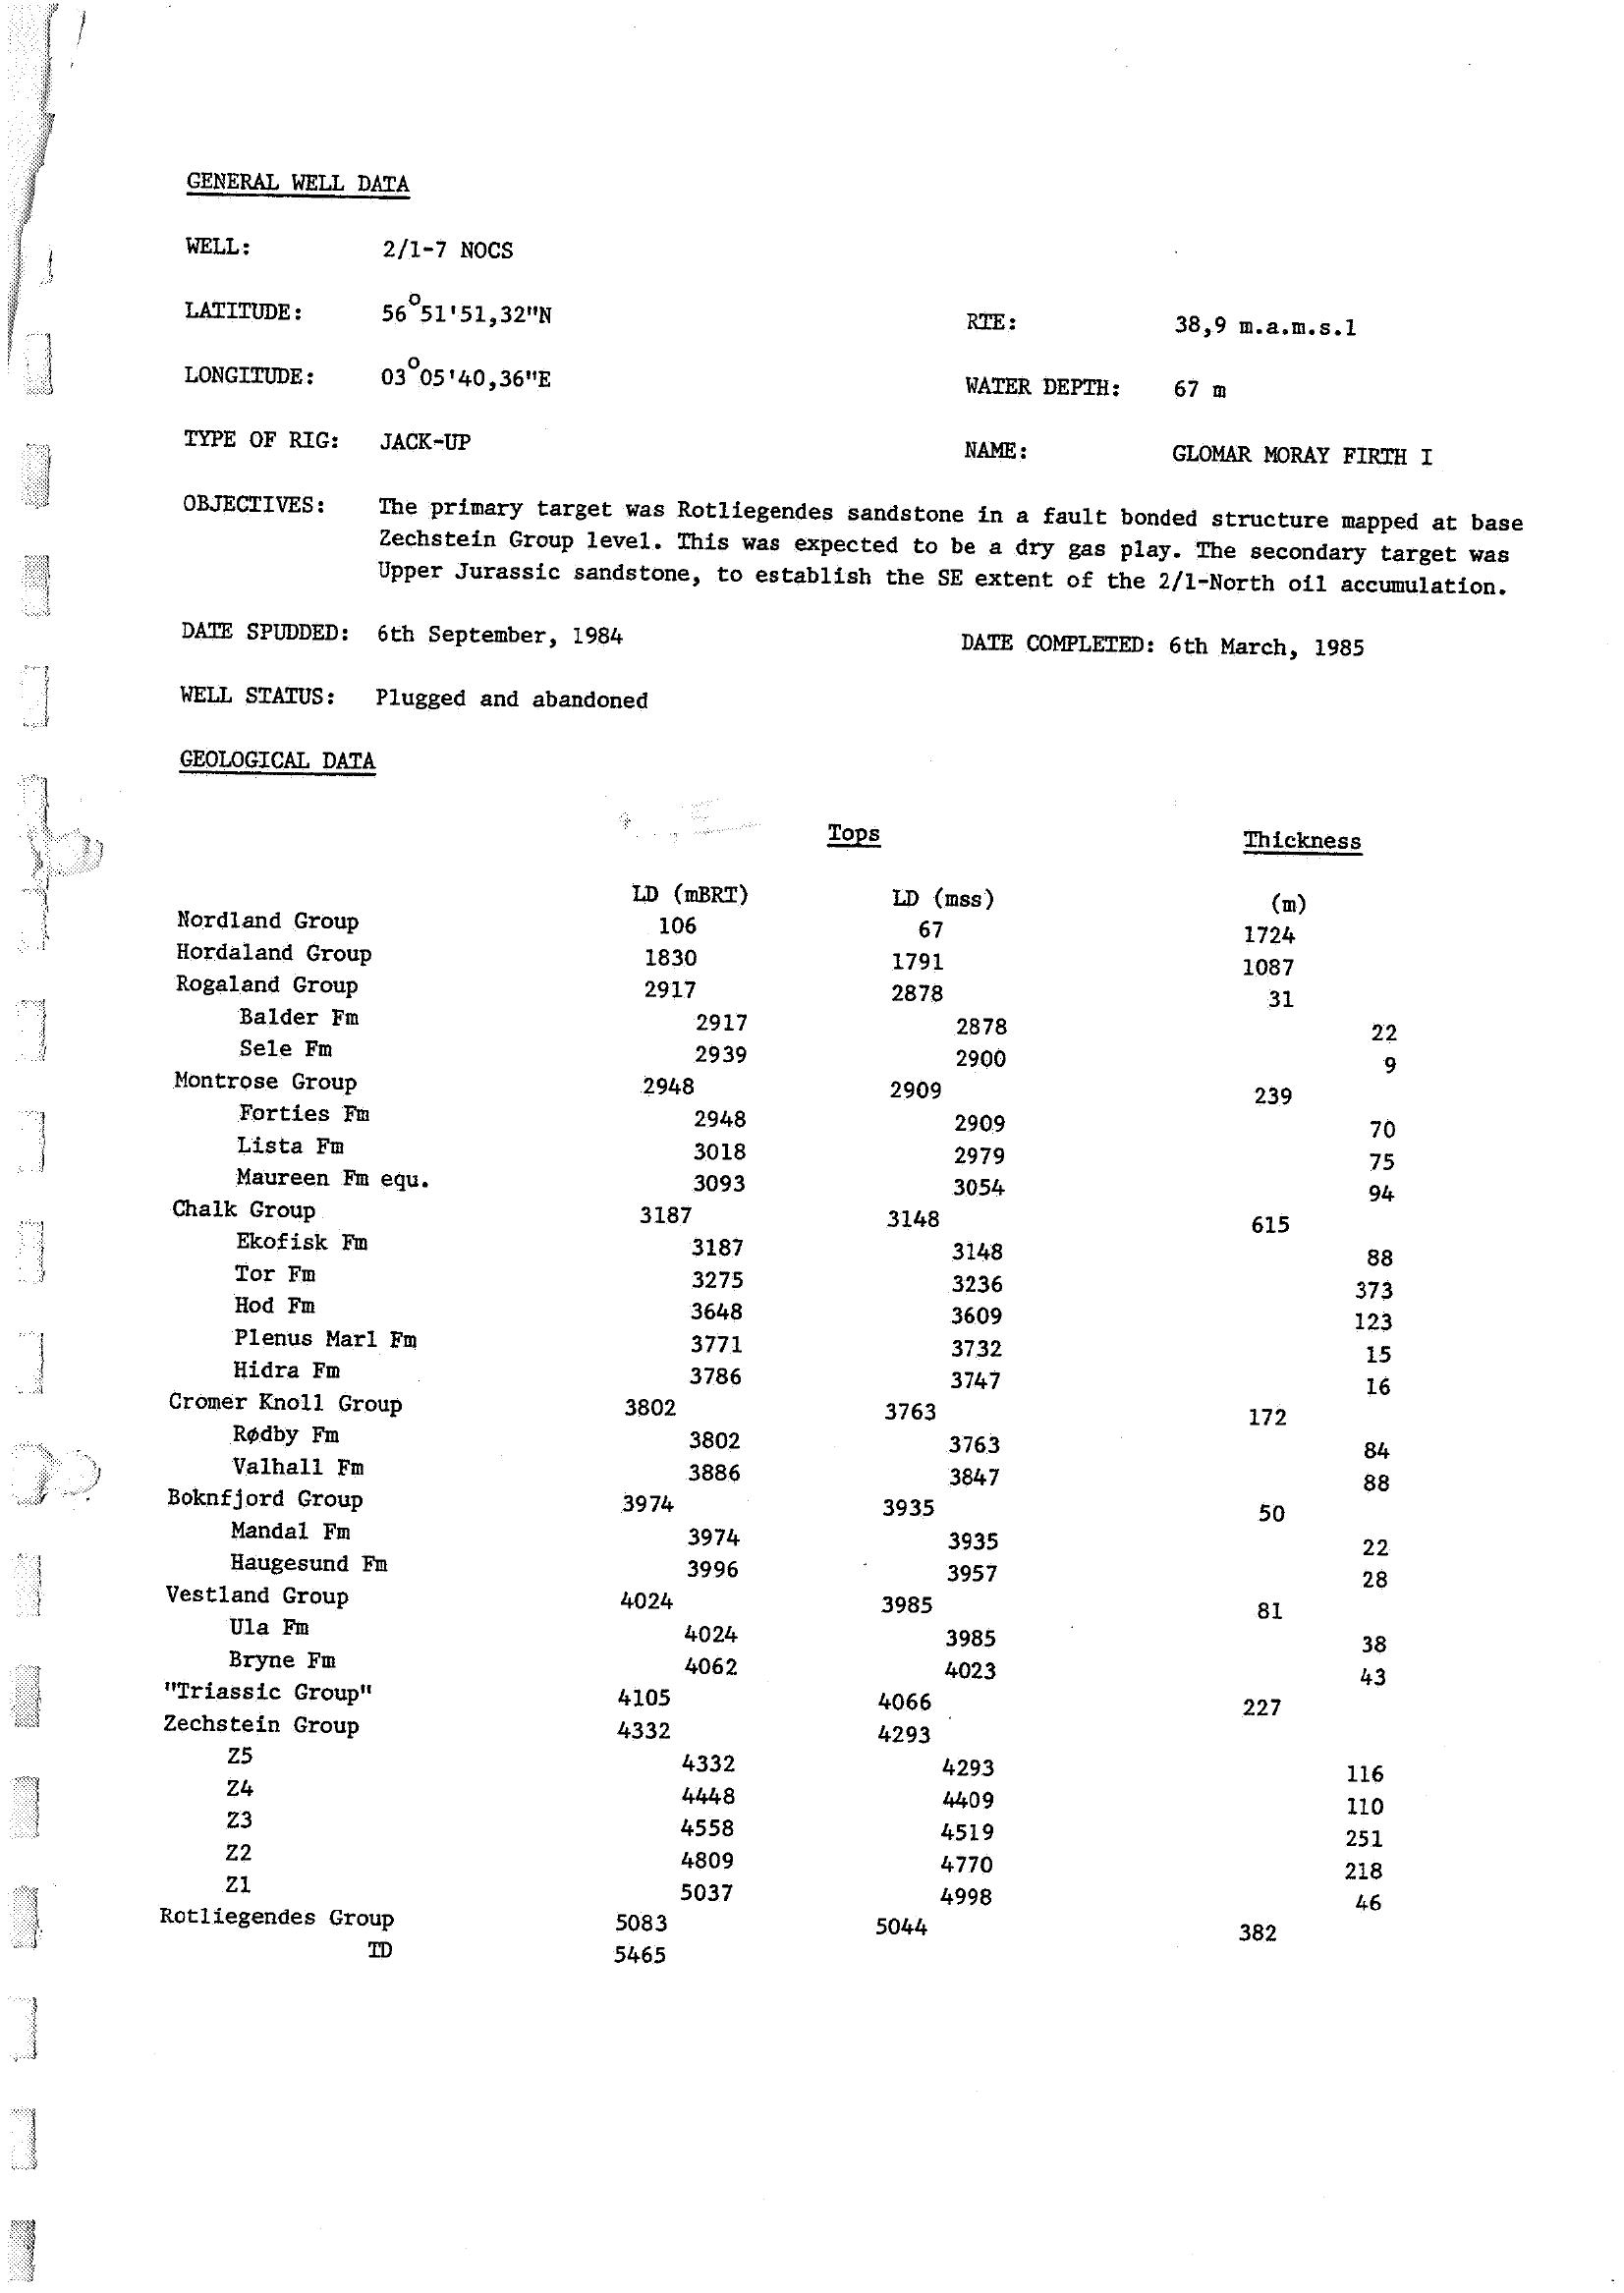table: (146, 743, 1448, 1991)
text: (121, 743, 1475, 1966), (156, 156, 1536, 738)
